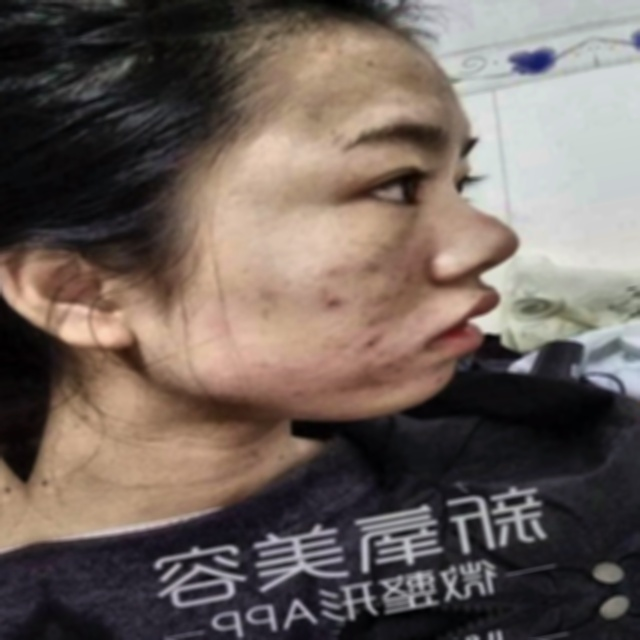comedone: (309, 292, 349, 320), (351, 328, 383, 358)
